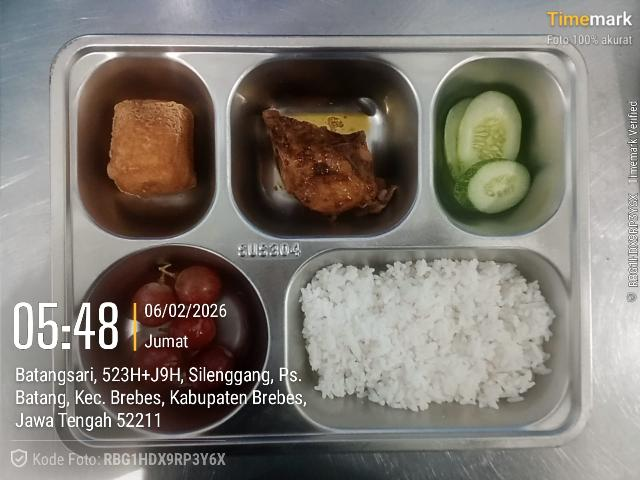ayam: (262, 109, 396, 218)
buah: (132, 264, 236, 392)
nasi: (299, 259, 555, 411)
sayur: (444, 91, 530, 213)
tahu: (107, 100, 196, 196)
